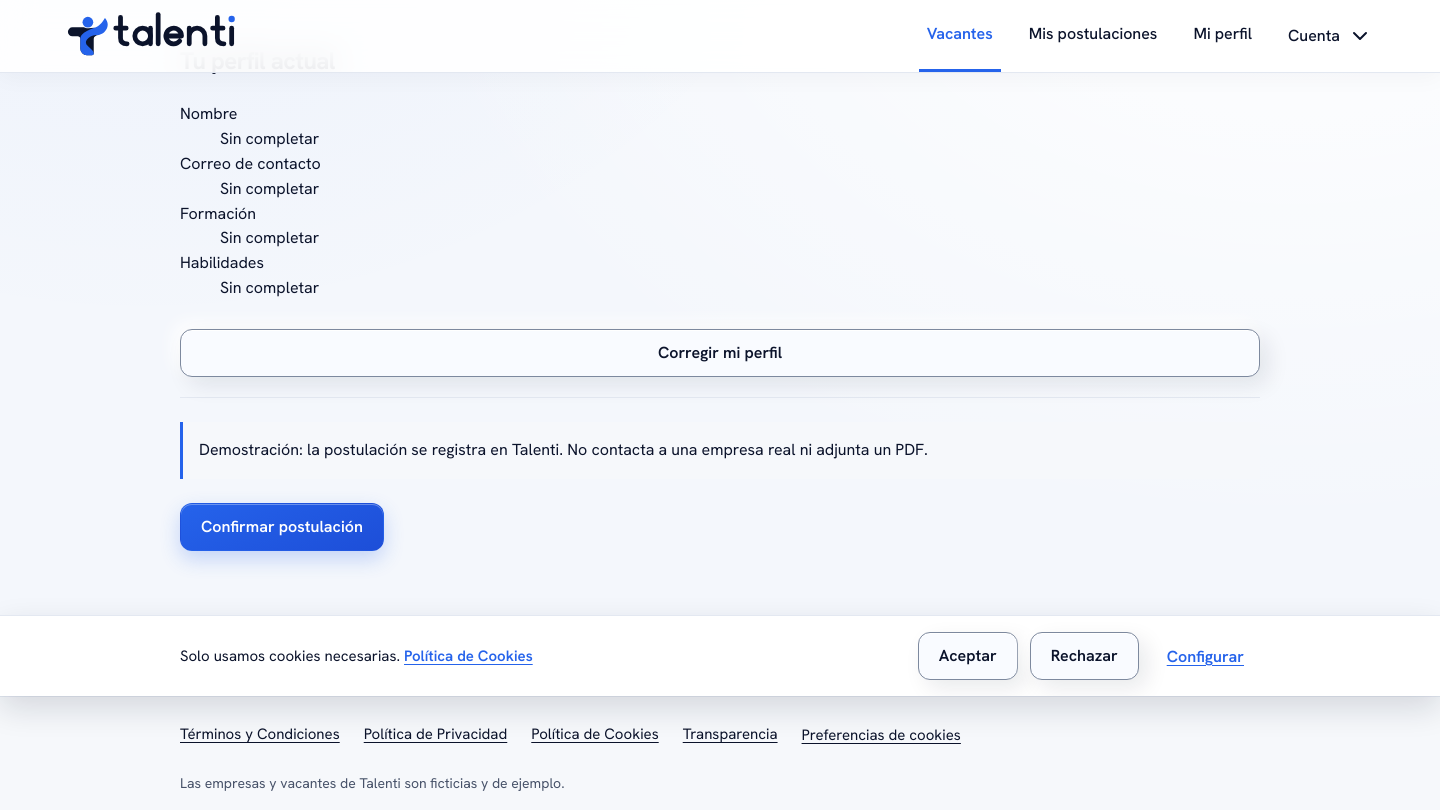
Test: Review before applying (008-14 to 008-17, redesign E5) › 008-17: a vacancy closed meanwhile is explained
The width and height of the screenshot is (1440, 810).
(page scrolled)
What coordinates should you click on to do the following:
click the button "Confirmar postulación"
I would click on:
 (282, 527)
Its box is [180,503,384,551].
(page scrolled)
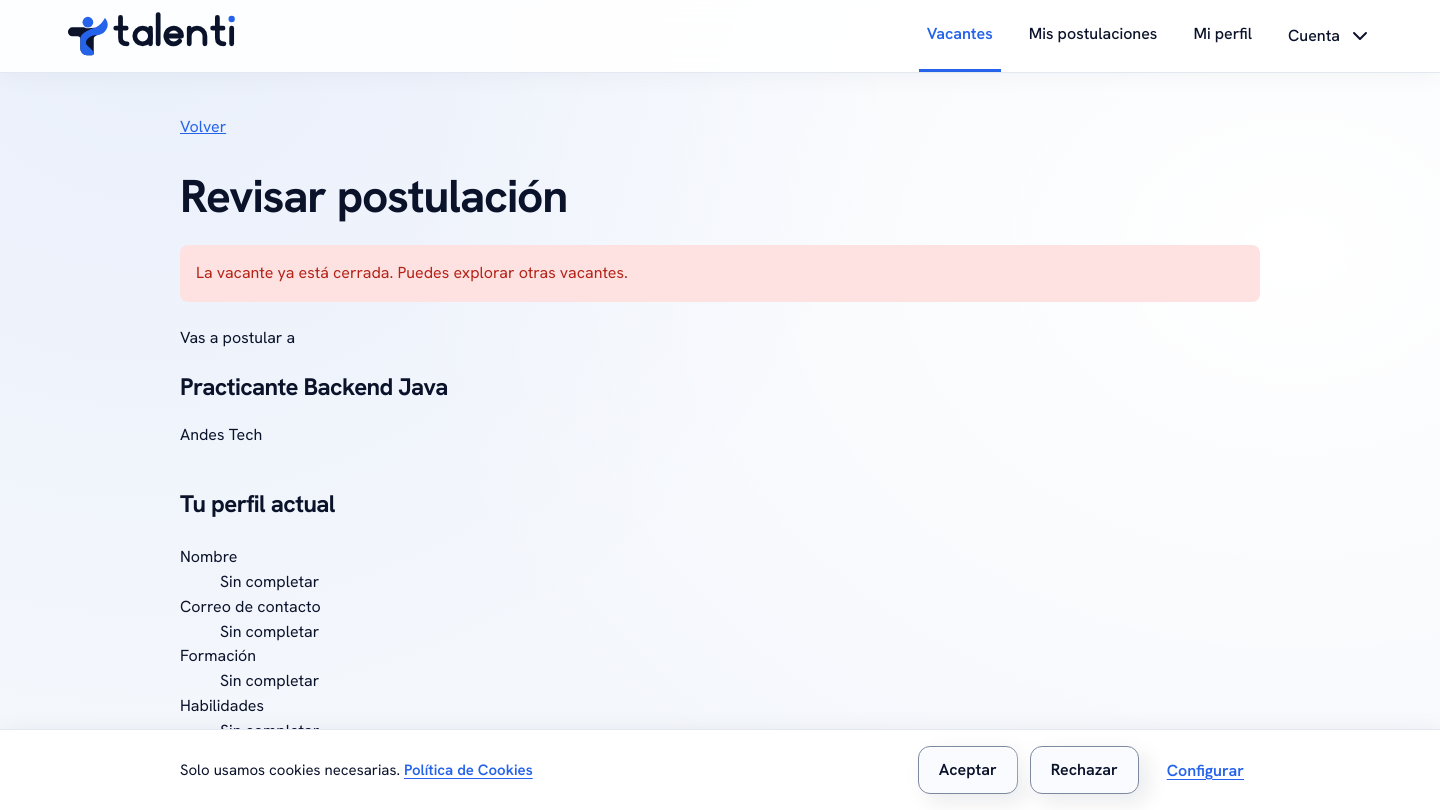
Expected: the message reads "La vacante ya está cerrada. Puedes explorar otras vacantes.", [196,262,628,283]
